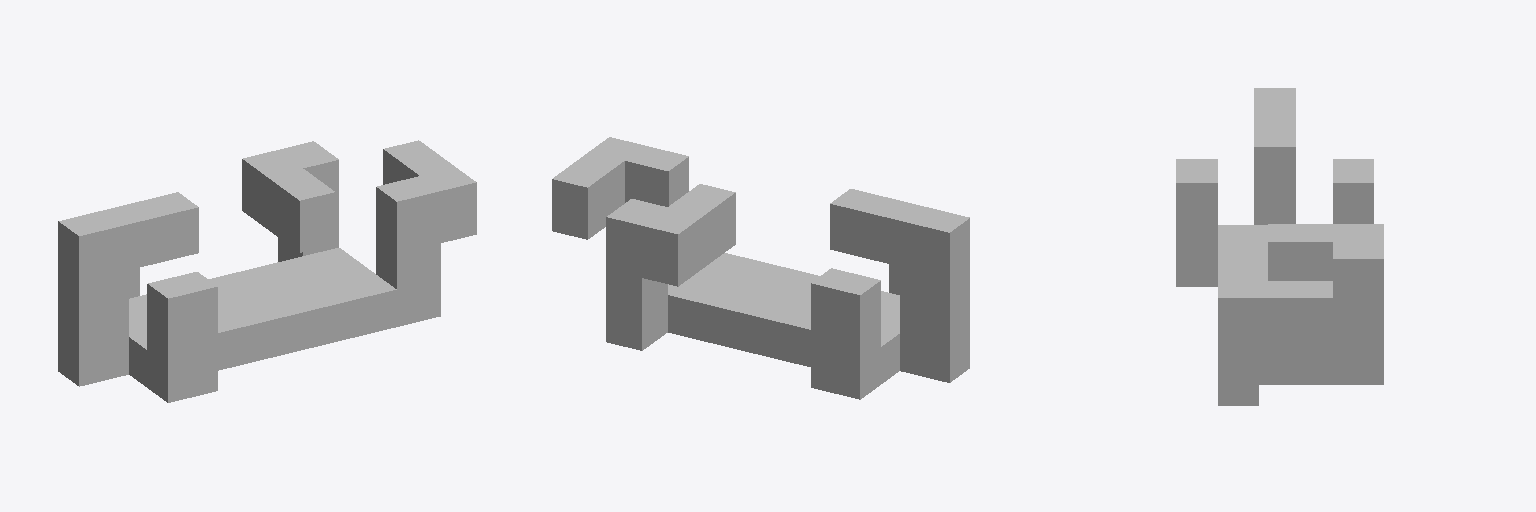
Rendered from Distractor_09.obj.
3 views of the same model, side by side, from view 1: azimuth 30°, elevation 25°; view 2: azimuth 150°, elevation 25°; view 3: azimuth 270°, elevation 25° (orthographic).
Visible parts, largest first — view 1: mesh_1_Thick-4; view 2: mesh_1_Thick-4; view 3: mesh_1_Thick-4.
Boxes of the visible parts, x1,y1,x2,y2 form: mesh_1_Thick-4: [58, 140, 476, 402]; mesh_1_Thick-4: [552, 137, 969, 399]; mesh_1_Thick-4: [1176, 88, 1383, 405].
Bounding box in the file's own units: 0.19 × 0.072 × 0.09.